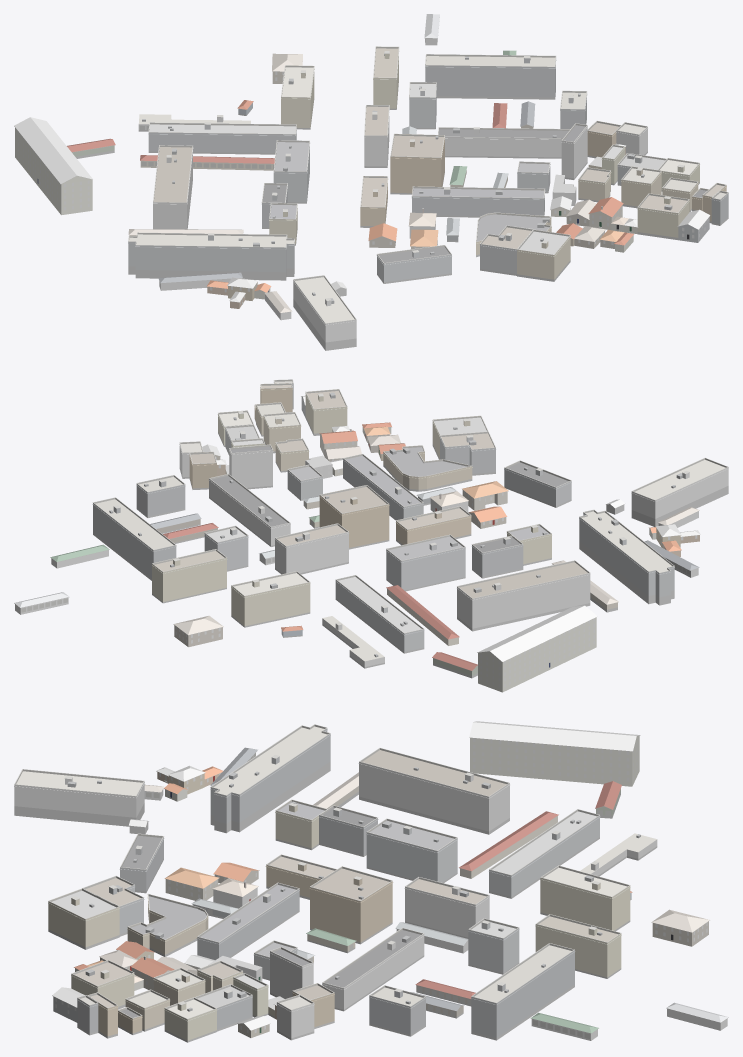
Rendered from bld_0_-1.dae.
The picture shows the model from 3 angles, top to bottom: view 1: azimuth 30°, elevation 25°; view 2: azimuth 150°, elevation 25°; view 3: azimuth 270°, elevation 25°; orthographic projection. The views are drawn at different scales.
Visible parts, largest first — view 1: blda2081; view 2: blda2081; view 3: blda2081.
Boxes of the visible parts, x1,y1,x2,y2 form: blda2081: [14, 14, 728, 350]; blda2081: [14, 379, 728, 692]; blda2081: [14, 721, 728, 1042].
Bounding box in the file's own units: 280 × 293 × 23.95.
